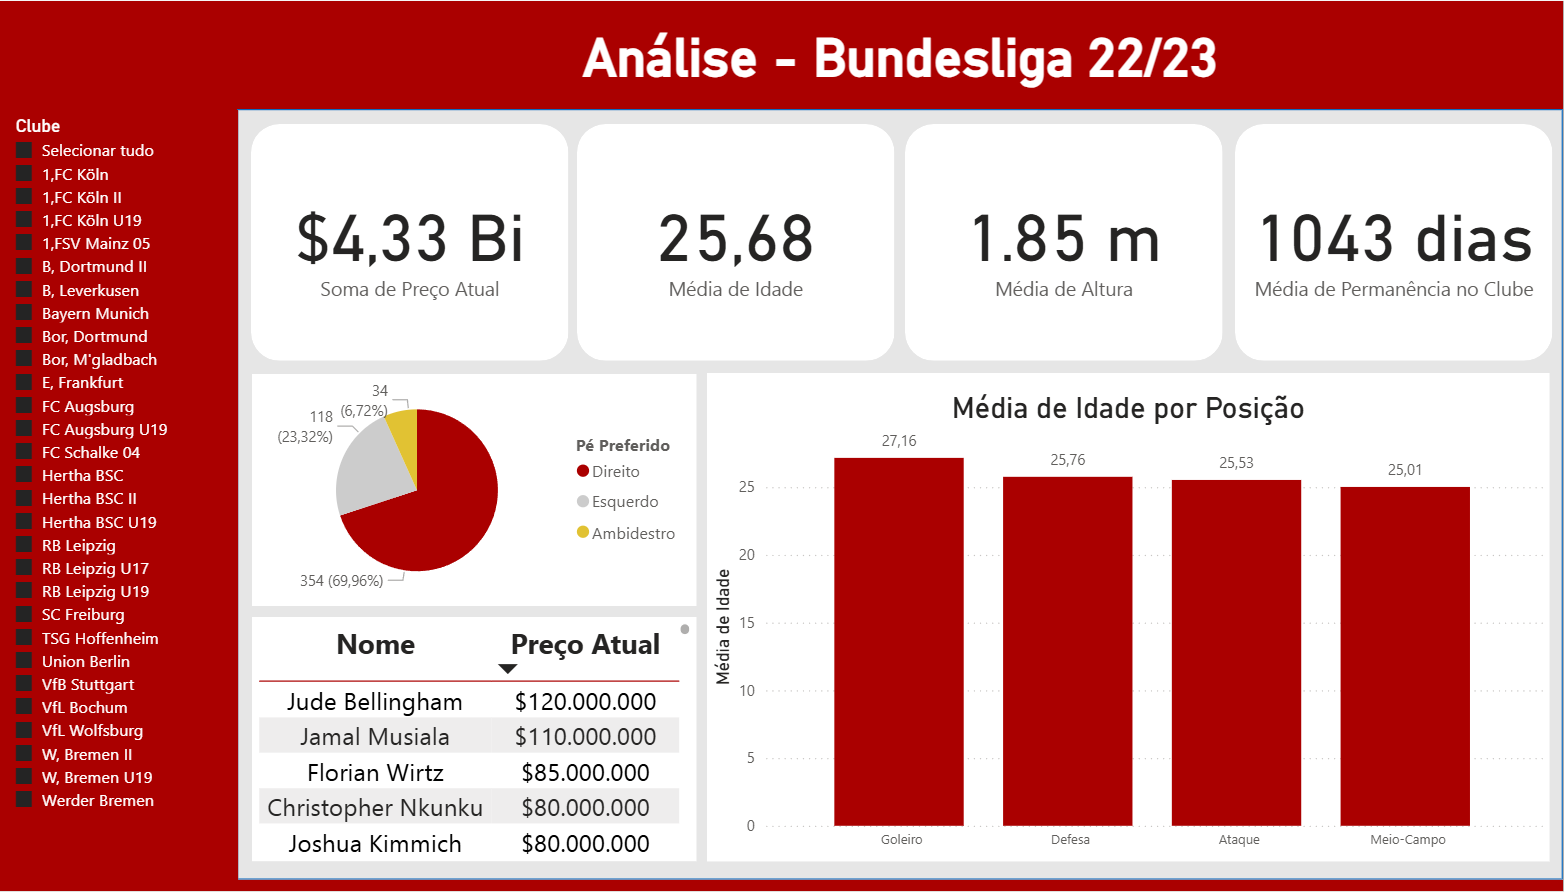

Layout of this report page (visuals, bound fields, positions):
{"tool":"powerbi","page":{"name":"Página 1","canvas":[1280,720],"ordinal":0},"visuals":[{"type":"textbox","box":[194.7,16.7,1085.3,60.7],"z":1000},{"type":"shape","box":[0,89.1,1280,630.1],"z":2000},{"type":"shape","box":[959.4,99.9,309.5,193.6],"z":3000},{"type":"tableEx","fields":{"Values":["bundesliga_player 2.Nome","Sum(bundesliga_player 2.Preço Atual)"]},"box":[11.7,504.1,364,200.6],"z":4000},{"type":"shape","box":[11.1,99.9,309.5,193.6],"z":5000},{"type":"card","fields":{"Values":["Sum(bundesliga_player 2.Preço Atual)"]},"box":[11.1,133.2,309.5,129.5],"z":6000},{"type":"clusteredColumnChart","title":"_","fields":{"Category":["bundesliga_player 2.Posição"],"Y":["Avg(bundesliga_player 2.Idade)"]},"box":[383.2,304.6,885.2,400.1],"z":7000},{"type":"pieChart","fields":{"Category":["bundesliga_player 2.Pé Preferido"],"Y":["CountNonNull(bundesliga_player 2.Pé Preferido)"]},"box":[11.7,304.6,364,190],"z":8000},{"type":"card","fields":{"Values":["bundesliga_player.Média de Permanência no Clube","select","select1"]},"box":[959.4,131.9,309.5,129.5],"z":9000},{"type":"textbox","box":[578.8,314.4,690,42.9],"z":10000},{"type":"shape","box":[326.8,99.9,309.5,193.6],"z":11000},{"type":"card","fields":{"Values":["bundesliga_player.Média de Idade (com texto)"]},"box":[326.8,131.9,309.5,129.5],"z":12000},{"type":"pageNavigator","box":[1141.2,21.4,120.4,50],"z":13000},{"type":"actionButton","box":[126.8,8.5,64,71.2],"z":14000},{"type":"shape","box":[642.5,99.9,309.5,193.6],"z":15000},{"type":"card","fields":{"Values":["bundesliga_player.Média de Altura (m)"]},"box":[642.5,131.9,309.5,129.5],"z":16000},{"type":"image","box":[19.3,7.2,114.7,77.3],"z":17000},{"type":"actionButton","box":[19.3,8.5,58,68.8],"z":18000},{"type":"actionButton","box":[76.1,8.5,58,68.8],"z":19000},{"type":"slicer","fields":{"Values":["bundesliga_player 2.Clube"]},"box":[189.6,8.5,224.6,68.8],"z":19500}]}

Visuals, with their boxes in screenshot pixels (x1, y1, x2, y2), scaled from the page's 1280x720 canvas onto the 1564x892 screenshot:
textbox: locate(238, 21, 1563, 96)
shape: locate(0, 110, 1563, 891)
shape: locate(1172, 124, 1550, 364)
tableEx - bundesliga_player 2.Nome x Sum(bundesliga_player 2.Preço Atual): locate(14, 625, 459, 873)
shape: locate(14, 124, 392, 364)
card - Sum(bundesliga_player 2.Preço Atual): locate(14, 165, 392, 325)
"_" clusteredColumnChart: locate(468, 377, 1550, 873)
pieChart - bundesliga_player 2.Pé Preferido x CountNonNull(bundesliga_player 2.Pé Preferido): locate(14, 377, 459, 613)
card - bundesliga_player.Média de Permanência no Clube x select: locate(1172, 163, 1550, 324)
textbox: locate(707, 390, 1550, 443)
shape: locate(399, 124, 777, 364)
card - bundesliga_player.Média de Idade (com texto): locate(399, 163, 777, 324)
pageNavigator: locate(1394, 27, 1542, 88)
actionButton: locate(155, 11, 233, 99)
shape: locate(785, 124, 1163, 364)
card - bundesliga_player.Média de Altura (m): locate(785, 163, 1163, 324)
image: locate(24, 9, 164, 105)
actionButton: locate(24, 11, 94, 96)
actionButton: locate(93, 11, 164, 96)
slicer - bundesliga_player 2.Clube: locate(232, 11, 506, 96)
